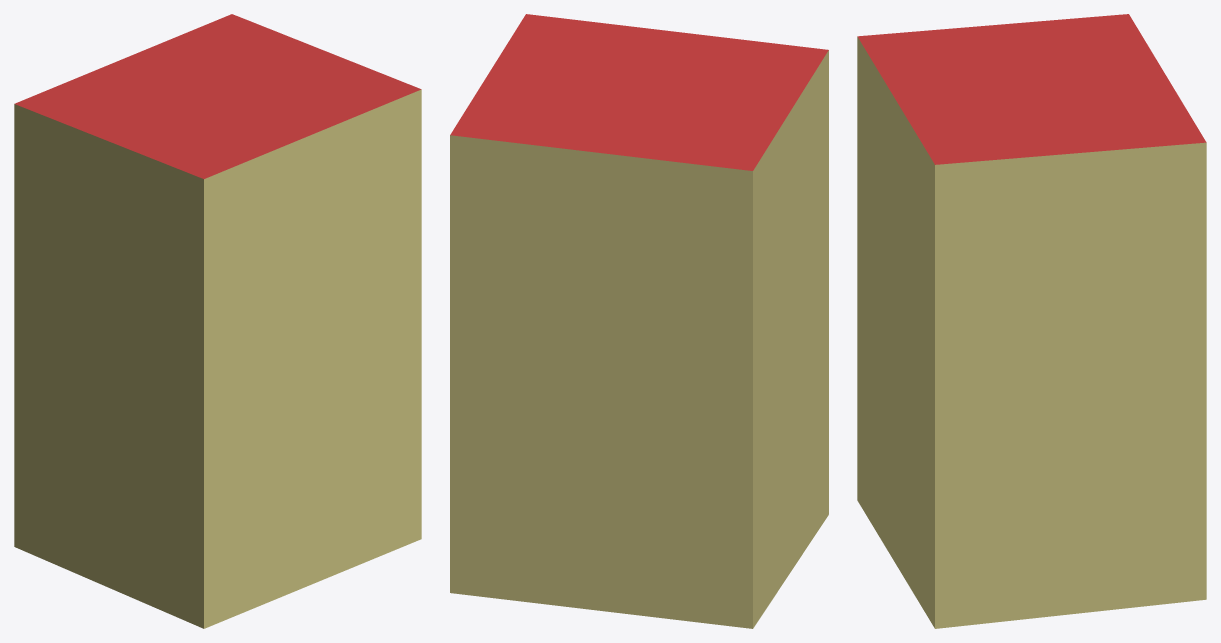
The picture shows the model from 3 angles, left to right: view 1: azimuth 30°, elevation 25°; view 2: azimuth 150°, elevation 25°; view 3: azimuth 270°, elevation 25°; orthographic projection. The views are drawn at different scales.
Size of the model in its own units: 3.88 by 3.63 by 5.32.
